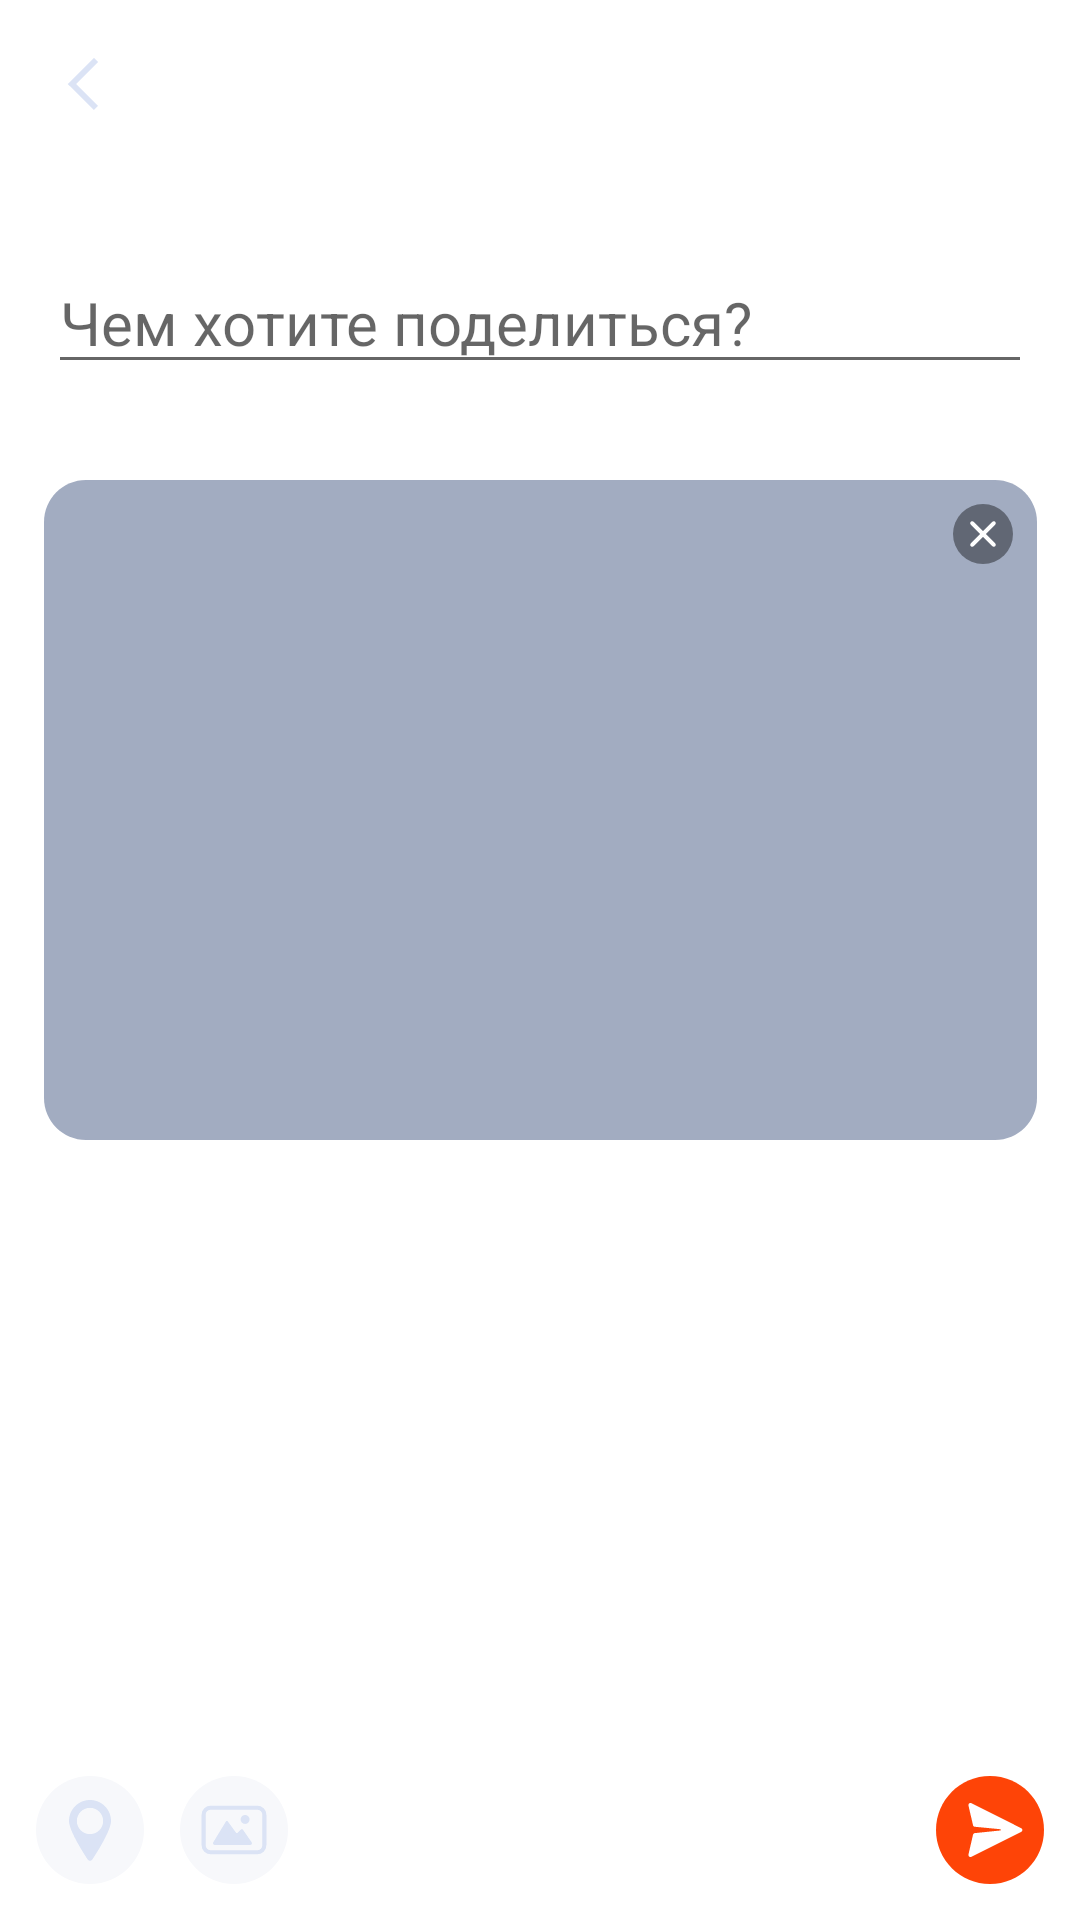

Where to tap for icons on this 1080w x 1920h app screen, as (x=x, y=y):
back arrow: (x=82, y=84)
location to add post: (x=90, y=1830)
send post: (x=990, y=1830)
